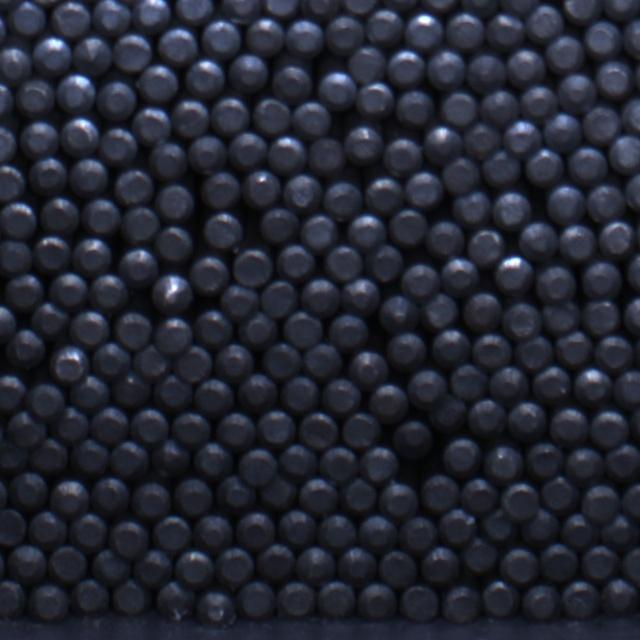tool: (154, 580, 196, 622), (56, 73, 96, 115), (49, 476, 90, 516), (157, 24, 198, 64), (344, 124, 384, 165), (443, 436, 483, 477), (111, 33, 151, 73), (402, 10, 442, 50), (6, 544, 46, 584), (61, 116, 101, 156), (282, 174, 322, 214), (189, 255, 229, 295), (508, 400, 548, 440), (484, 442, 524, 482), (237, 580, 277, 620), (550, 406, 590, 446), (462, 292, 502, 332), (228, 52, 268, 92), (9, 470, 49, 510), (154, 271, 194, 311), (152, 438, 192, 478), (108, 517, 149, 556), (32, 36, 71, 77), (234, 510, 275, 549), (557, 73, 596, 113), (543, 112, 582, 152), (233, 248, 273, 287), (428, 48, 467, 88), (590, 408, 630, 447), (547, 184, 586, 224), (581, 482, 620, 522), (424, 123, 463, 163), (369, 382, 409, 421), (110, 440, 150, 479), (242, 167, 282, 206), (97, 80, 136, 120), (214, 342, 254, 381), (214, 546, 253, 586), (174, 549, 214, 588), (28, 156, 68, 195), (300, 278, 340, 317), (468, 52, 507, 92), (408, 368, 447, 408), (394, 419, 434, 458), (72, 235, 112, 274), (468, 398, 507, 438), (90, 476, 130, 515), (519, 222, 559, 261), (195, 307, 234, 347), (496, 254, 536, 293), (386, 332, 426, 371), (174, 477, 215, 515), (348, 348, 389, 386), (50, 343, 91, 381), (237, 373, 278, 411), (26, 582, 68, 619), (323, 181, 362, 220), (582, 106, 621, 145), (244, 16, 283, 55), (210, 95, 249, 134), (69, 513, 108, 552), (269, 136, 308, 175), (326, 14, 365, 53), (358, 514, 397, 553), (492, 190, 531, 229), (525, 148, 564, 187), (69, 160, 108, 199), (433, 328, 472, 367), (99, 125, 138, 164), (273, 62, 312, 101), (119, 246, 158, 285), (49, 546, 89, 584), (90, 547, 130, 585), (89, 405, 129, 443), (202, 19, 240, 59), (238, 446, 278, 484), (184, 57, 222, 97), (154, 314, 194, 352), (257, 544, 297, 582), (566, 144, 606, 182), (400, 583, 440, 621), (441, 584, 481, 622), (6, 408, 46, 446), (419, 546, 459, 584), (600, 578, 638, 618), (298, 477, 338, 515), (74, 34, 112, 74), (318, 580, 358, 618), (188, 136, 228, 174), (438, 508, 478, 546), (538, 264, 578, 302), (338, 547, 378, 585), (525, 3, 563, 43), (132, 549, 172, 587), (203, 211, 243, 249), (520, 508, 560, 546), (532, 366, 572, 404), (580, 260, 620, 298), (294, 546, 335, 583), (377, 482, 418, 519), (284, 19, 322, 58), (539, 543, 578, 581), (255, 95, 293, 134), (383, 137, 421, 176), (502, 120, 541, 158), (505, 48, 543, 87), (195, 378, 234, 416), (502, 480, 541, 518), (365, 176, 404, 214), (20, 120, 59, 158), (422, 473, 461, 511), (481, 579, 520, 617), (174, 344, 213, 382), (30, 510, 69, 548), (320, 71, 358, 110), (171, 97, 209, 136), (132, 105, 171, 143), (33, 233, 72, 271), (583, 20, 621, 59), (258, 409, 297, 447), (202, 170, 241, 208), (347, 213, 386, 251), (560, 579, 598, 618), (461, 477, 500, 515), (195, 442, 234, 480), (358, 583, 397, 621), (300, 212, 338, 251), (596, 333, 635, 371), (278, 509, 317, 547), (8, 329, 46, 368), (116, 166, 155, 204), (565, 446, 604, 484), (300, 412, 340, 449), (580, 545, 620, 582), (150, 517, 190, 554), (215, 412, 255, 449), (324, 378, 364, 415), (132, 481, 172, 518), (282, 374, 322, 411), (4, 273, 44, 310), (129, 406, 169, 443), (137, 65, 177, 102), (110, 369, 150, 406), (72, 374, 112, 411), (110, 579, 150, 616), (238, 311, 278, 348), (277, 581, 317, 618), (49, 270, 89, 307), (278, 443, 318, 480), (258, 473, 298, 510), (366, 8, 404, 46), (260, 278, 298, 316), (446, 12, 484, 50), (386, 48, 424, 86), (439, 258, 477, 296), (587, 184, 625, 222), (469, 228, 507, 266), (388, 209, 427, 246), (449, 362, 488, 399), (500, 546, 539, 583), (358, 448, 397, 485), (546, 34, 585, 71), (319, 446, 358, 483), (485, 11, 524, 48), (134, 344, 173, 381), (16, 79, 55, 116), (94, 341, 133, 378), (88, 272, 127, 309), (480, 88, 519, 125), (70, 308, 109, 345), (561, 512, 600, 549), (595, 59, 632, 98), (490, 366, 529, 403), (543, 298, 582, 335), (542, 475, 581, 512), (51, 405, 90, 442), (381, 295, 420, 332), (430, 394, 469, 431), (284, 312, 324, 348), (342, 412, 382, 448), (171, 412, 211, 448), (51, 0, 91, 36), (405, 169, 443, 206), (114, 312, 152, 349), (326, 243, 364, 280), (402, 263, 440, 300), (294, 99, 332, 136), (379, 549, 417, 586), (560, 224, 597, 262), (347, 46, 385, 83), (309, 138, 346, 176), (263, 342, 301, 379), (505, 302, 543, 339), (304, 342, 342, 379), (522, 82, 560, 119), (342, 277, 380, 314), (260, 206, 298, 243), (574, 368, 612, 405), (556, 330, 594, 367), (522, 583, 560, 620), (482, 150, 520, 187), (150, 142, 188, 179), (460, 537, 498, 574), (474, 334, 513, 370), (330, 316, 369, 352), (40, 196, 79, 232), (70, 580, 109, 616), (81, 198, 120, 234), (156, 182, 195, 218), (31, 302, 70, 338), (26, 382, 65, 418), (443, 158, 480, 195), (462, 122, 500, 158), (277, 243, 315, 279), (0, 200, 36, 238), (356, 81, 394, 117), (398, 90, 436, 126), (230, 132, 268, 168), (318, 514, 356, 550), (219, 475, 257, 511), (602, 517, 640, 553), (194, 514, 232, 550), (156, 224, 194, 260), (72, 439, 110, 475), (200, 590, 236, 628), (91, 1, 130, 36), (605, 442, 640, 481), (220, 283, 259, 318), (31, 436, 70, 471), (154, 374, 194, 408), (582, 300, 619, 336), (400, 516, 437, 552), (123, 204, 160, 240), (601, 218, 637, 255), (528, 442, 565, 478), (454, 190, 491, 226), (429, 219, 466, 255), (338, 477, 376, 512), (516, 335, 554, 370), (481, 508, 519, 543), (131, 0, 172, 31), (8, 0, 44, 35), (442, 90, 478, 125), (422, 294, 459, 328), (368, 246, 402, 282), (609, 135, 640, 174), (0, 240, 32, 277), (0, 47, 31, 84), (0, 579, 26, 619), (0, 373, 27, 411), (218, 0, 262, 23), (0, 509, 27, 545), (0, 440, 29, 473), (615, 369, 640, 406), (563, 0, 603, 23), (0, 162, 24, 199), (176, 0, 215, 22), (621, 94, 640, 135), (601, 0, 638, 19), (623, 16, 640, 57), (299, 0, 339, 17), (623, 481, 640, 520), (623, 546, 640, 584), (0, 304, 17, 341), (0, 125, 16, 163), (459, 0, 499, 15), (625, 171, 640, 211), (625, 295, 640, 334), (627, 248, 640, 292), (499, 0, 539, 14), (262, 0, 299, 15), (339, 0, 378, 13), (0, 79, 12, 118), (420, 0, 460, 11), (381, 0, 420, 10), (0, 472, 8, 512), (0, 6, 6, 49)
